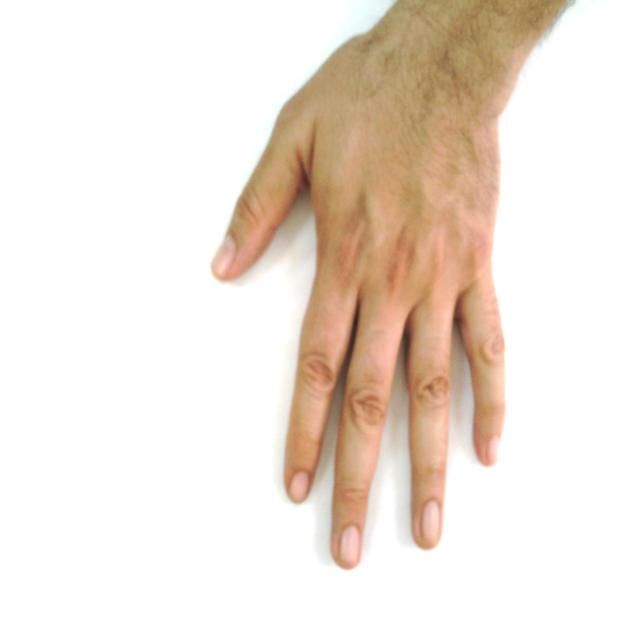Fingernail: (212, 236, 236, 274), (421, 501, 440, 546), (339, 526, 360, 566), (291, 473, 309, 501), (488, 439, 499, 464)
